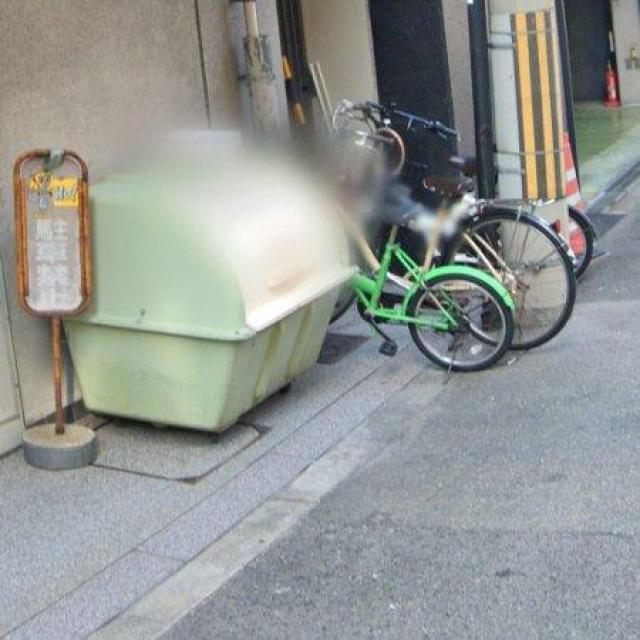bicycle: (358, 179, 586, 372)
